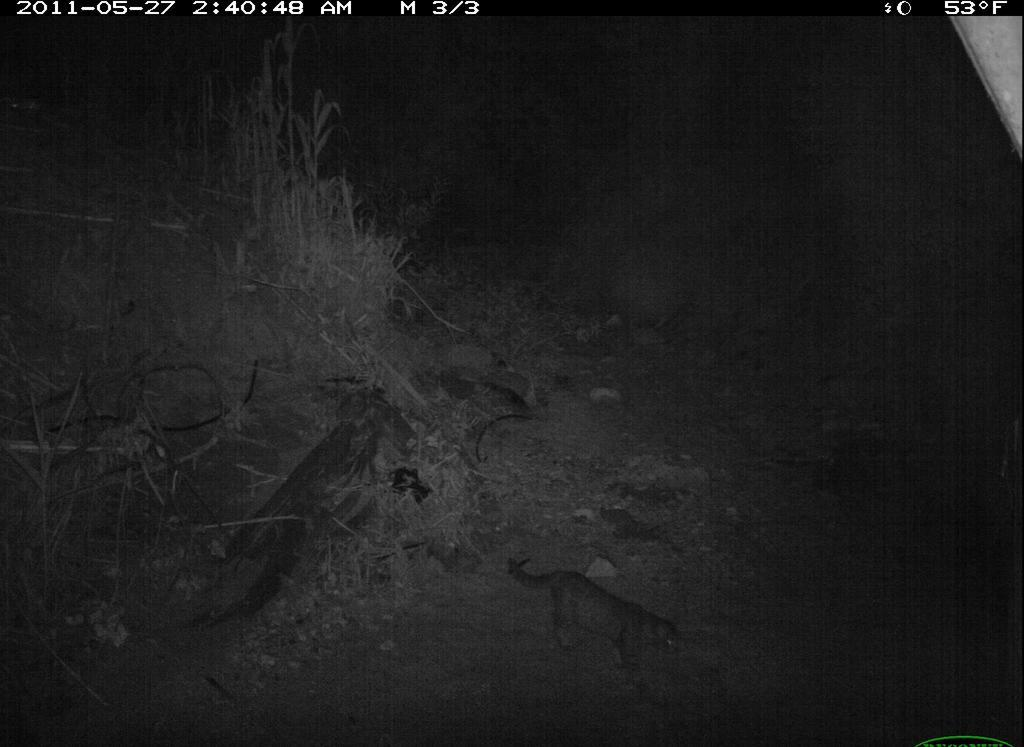cat: (501, 538, 694, 688)
